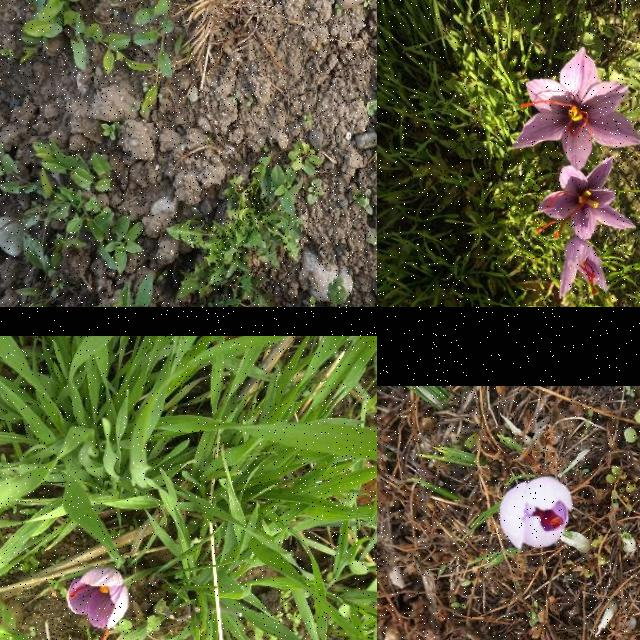flower: (514, 47, 640, 168), (534, 156, 636, 240), (500, 476, 574, 552), (65, 567, 130, 640), (558, 236, 610, 302)
